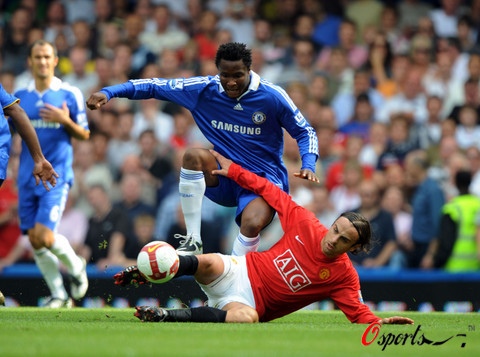10+: (1, 1, 477, 338)
down: (109, 141, 418, 333)
